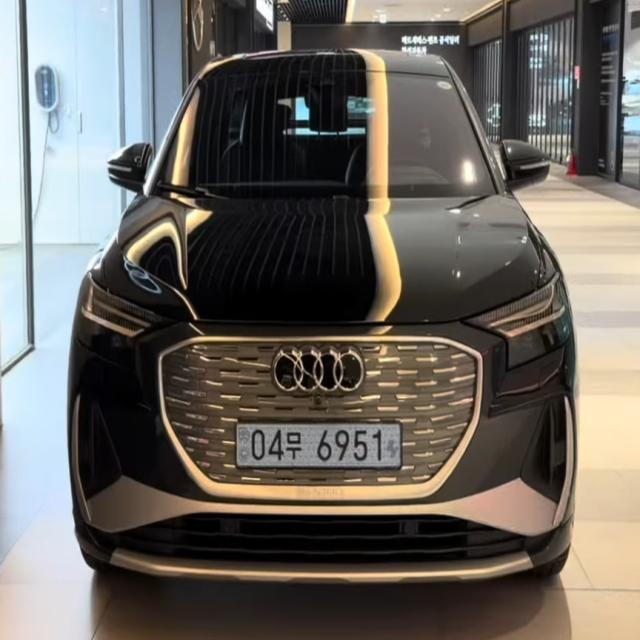car: (220, 413, 426, 488)
carev: (232, 424, 253, 470), (383, 422, 403, 470)
